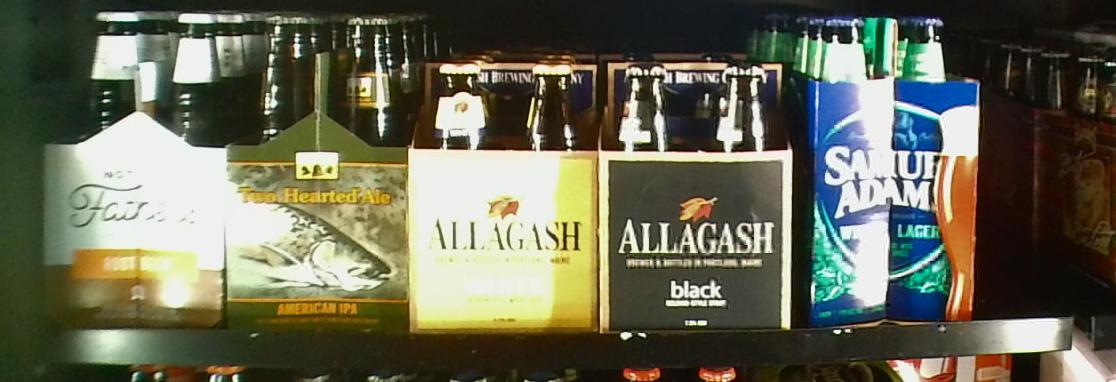bottle: (798, 9, 975, 326), (46, 11, 227, 320), (230, 15, 406, 316), (600, 57, 793, 328), (416, 61, 595, 328)
